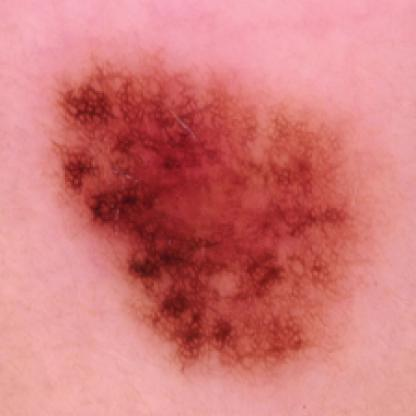benign: (58, 58, 368, 373)
